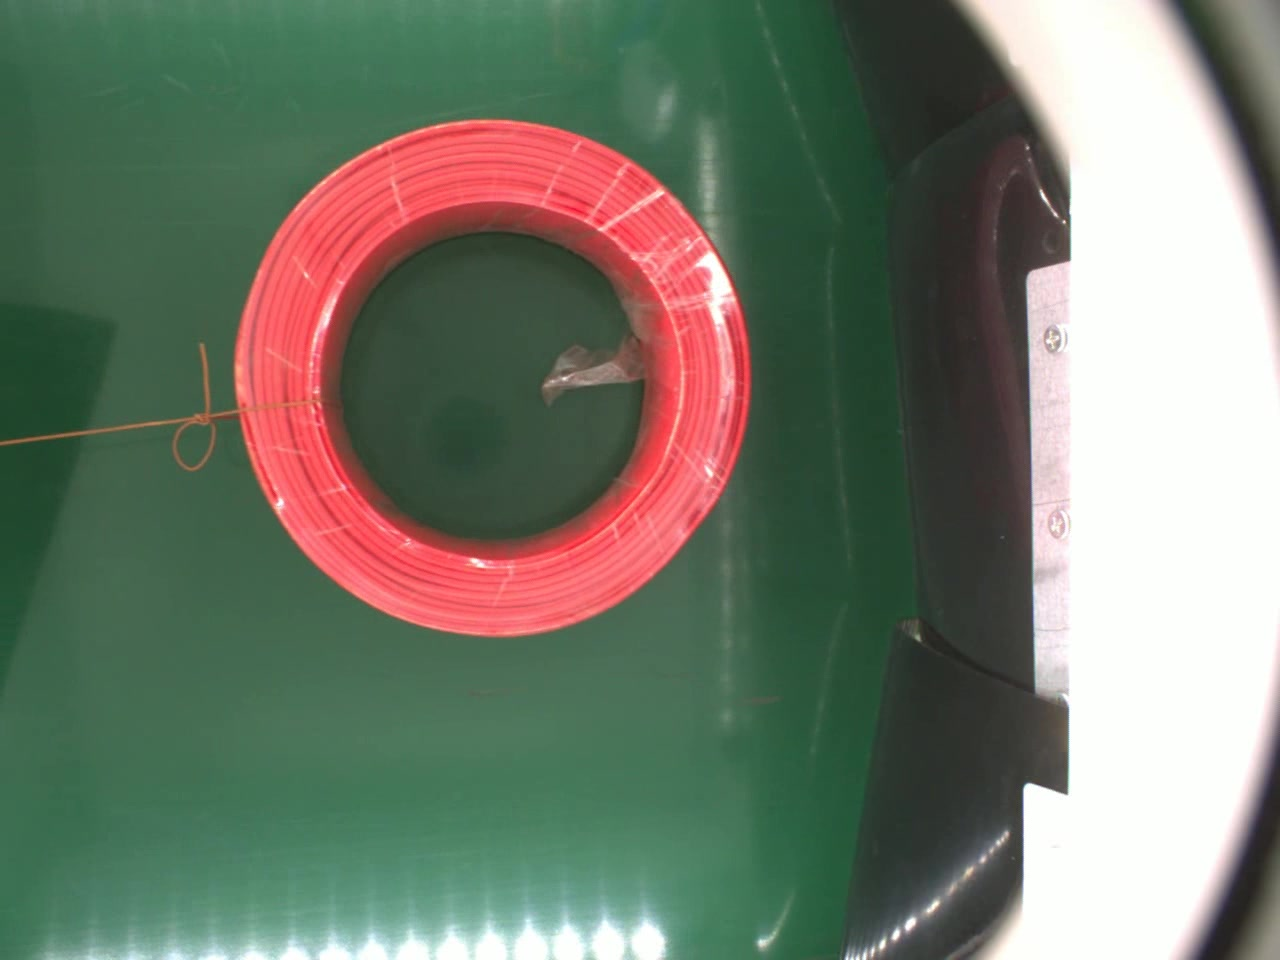red: (232, 114, 753, 635)
